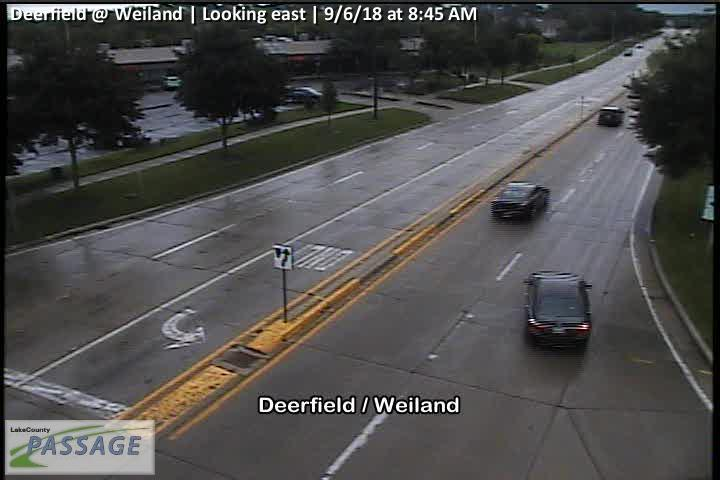SUV: (598, 105, 625, 128)
Sedan: (523, 270, 594, 351), (491, 180, 550, 220)
